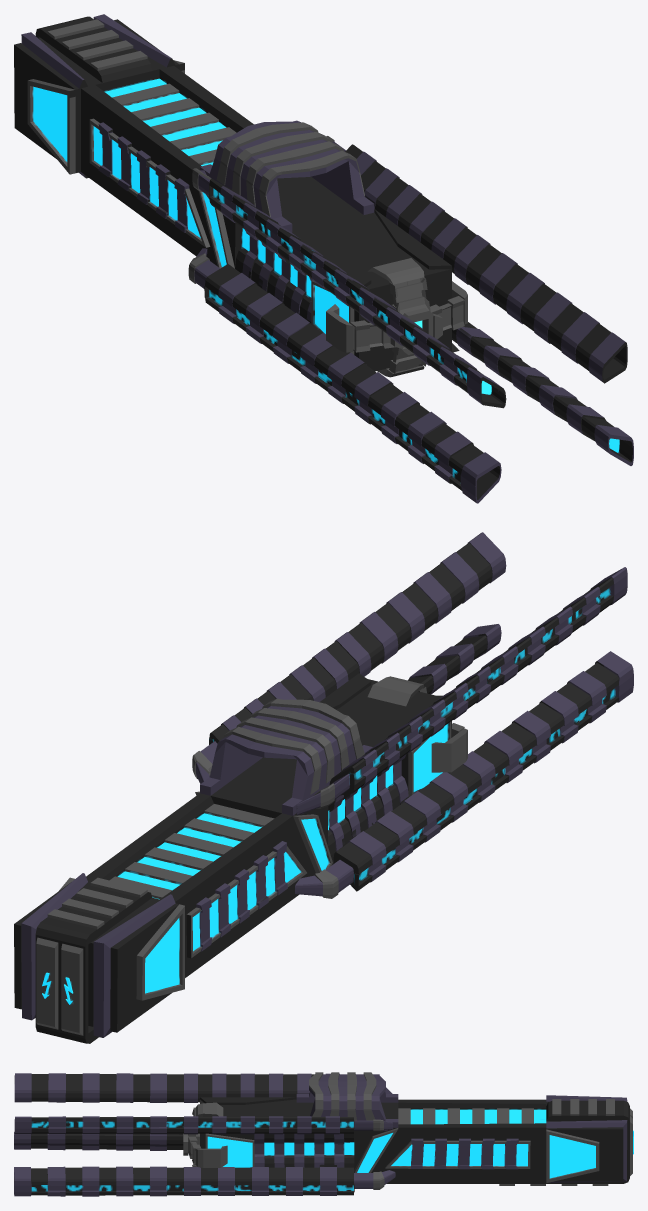
Rendered from Relica.fbx.
3 renders of one model, top to bottom at view 1: azimuth 30°, elevation 25°; view 2: azimuth 150°, elevation 25°; view 3: azimuth 270°, elevation 25°, orthographic. The views are drawn at different scales.
Parts seen in each view (by area): view 1: Cube.001; view 2: Cube.001; view 3: Cube.001.
Boxes of the visible parts, left/top/right/bottom form: Cube.001: left=14, top=14, right=633, bottom=503; Cube.001: left=14, top=532, right=633, bottom=1043; Cube.001: left=14, top=1072, right=633, bottom=1196.
Bounding box in the file's own units: 0.4728 × 0.439 × 2.57.
1 material, 1 textured.
